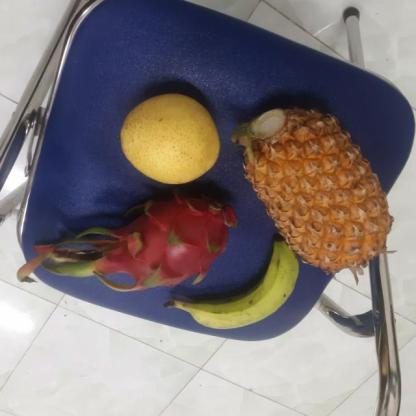banana: (181, 235, 302, 331)
pear: (119, 89, 224, 181)
pineapple: (237, 105, 395, 272)
pitaya: (95, 186, 245, 292)
